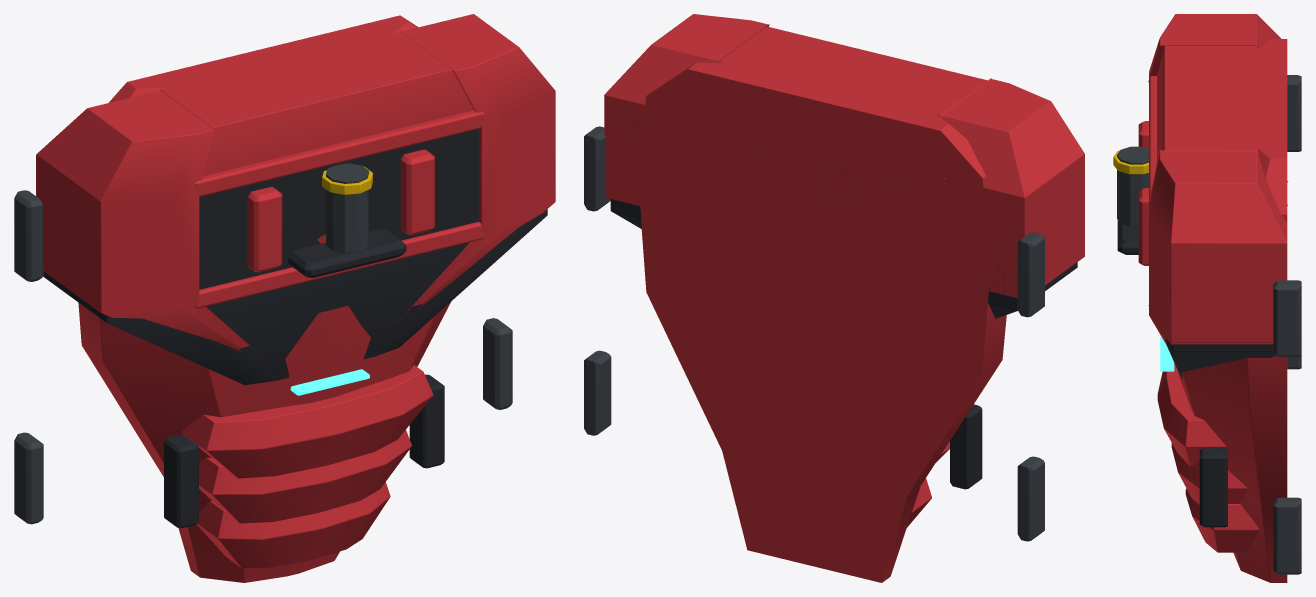
File: BodyFront_Set08_Goliath.fbx
3 renders of one model, left to right at view 1: azimuth 30°, elevation 25°; view 2: azimuth 150°, elevation 25°; view 3: azimuth 270°, elevation 25°, orthographic. The views are drawn at different scales.
Parts seen in each view (by area): view 1: BodyFront_Set08_Goliath; view 2: BodyFront_Set08_Goliath; view 3: BodyFront_Set08_Goliath.
Boxes of the visible parts, <box> form: BodyFront_Set08_Goliath: <box>14,14,555,582</box>; BodyFront_Set08_Goliath: <box>584,14,1084,582</box>; BodyFront_Set08_Goliath: <box>1113,14,1301,582</box>.
Bounding box in the file's own units: 1.07 × 1.06 × 0.3993.
